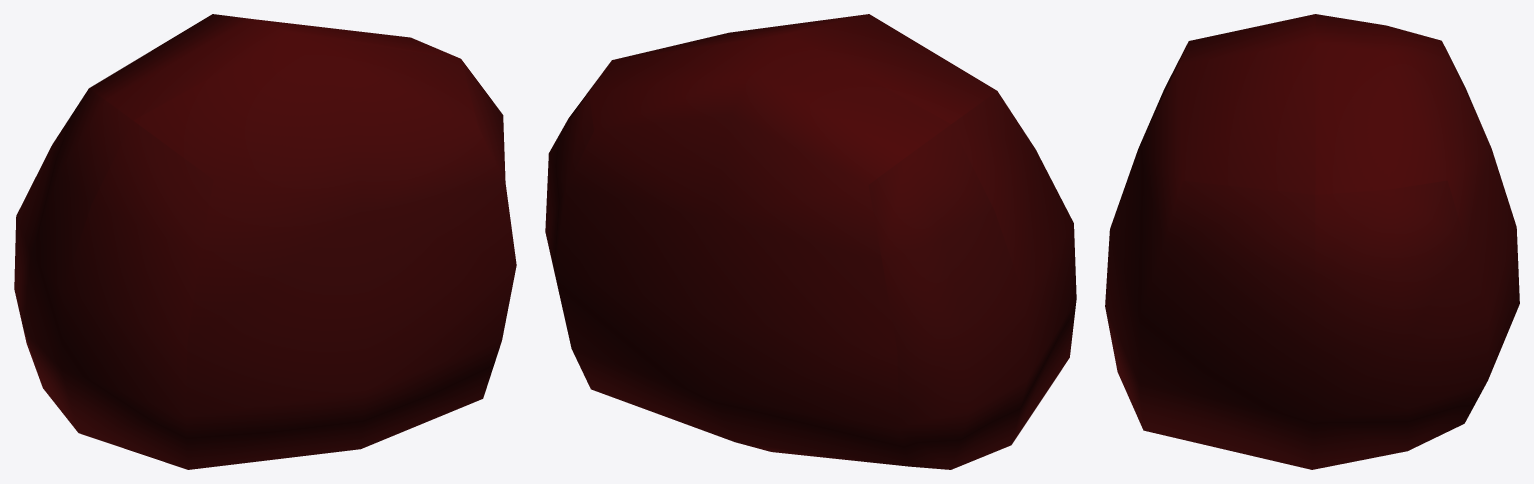
Rendered from geology-pebbles-smalldirtchunk_v2.fbx.
3 renders of one model, left to right at view 1: azimuth 30°, elevation 25°; view 2: azimuth 150°, elevation 25°; view 3: azimuth 270°, elevation 25°, orthographic. The views are drawn at different scales.
Parts seen in each view (by area): view 1: SmallDirtChunk_v2; view 2: SmallDirtChunk_v2; view 3: SmallDirtChunk_v2.
Part boxes in pixels (x1,y1,x2,y2): SmallDirtChunk_v2: (14, 14, 516, 469); SmallDirtChunk_v2: (545, 14, 1076, 469); SmallDirtChunk_v2: (1105, 14, 1519, 469).
Size of the model in its own units: 3.2 by 2.55 by 2.55.
